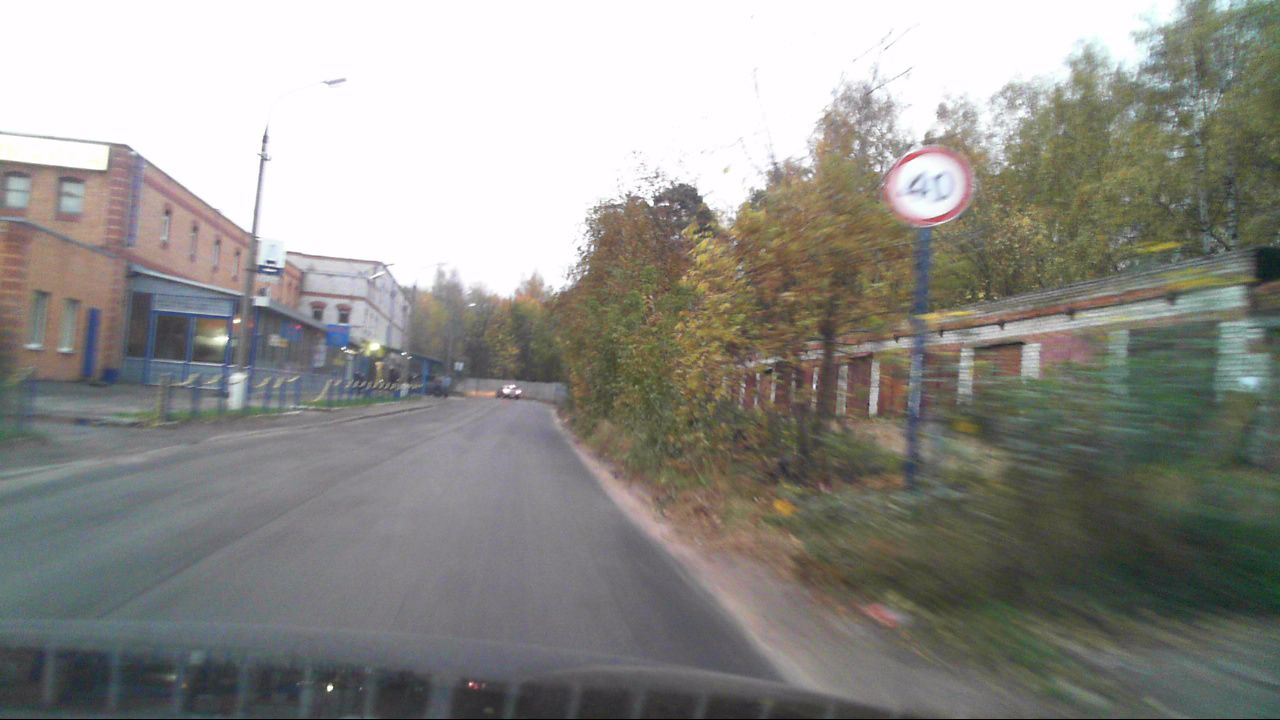speed_warning_40: (888, 147, 971, 227)
